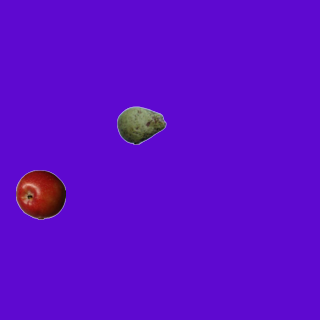Apple Braeburn: (15, 169, 65, 219)
Pear Stone: (116, 100, 166, 150)
